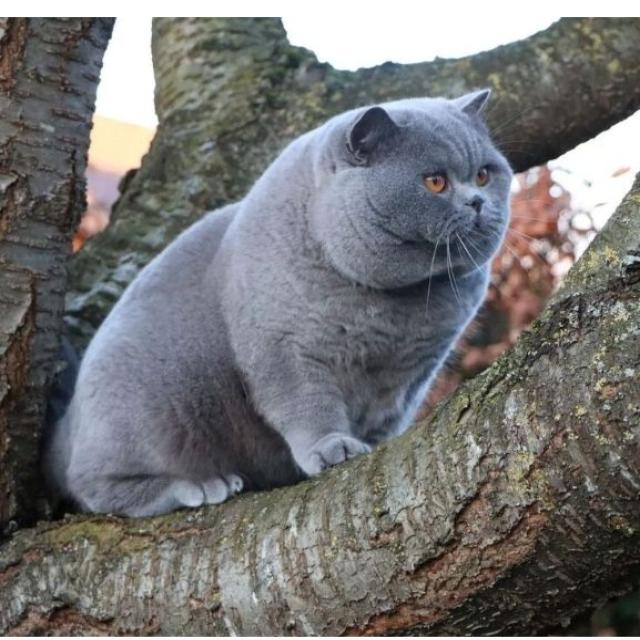british shorthair: (45, 90, 511, 516)
